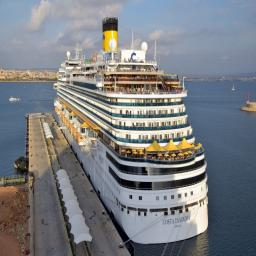cruises: (52, 15, 212, 250)
